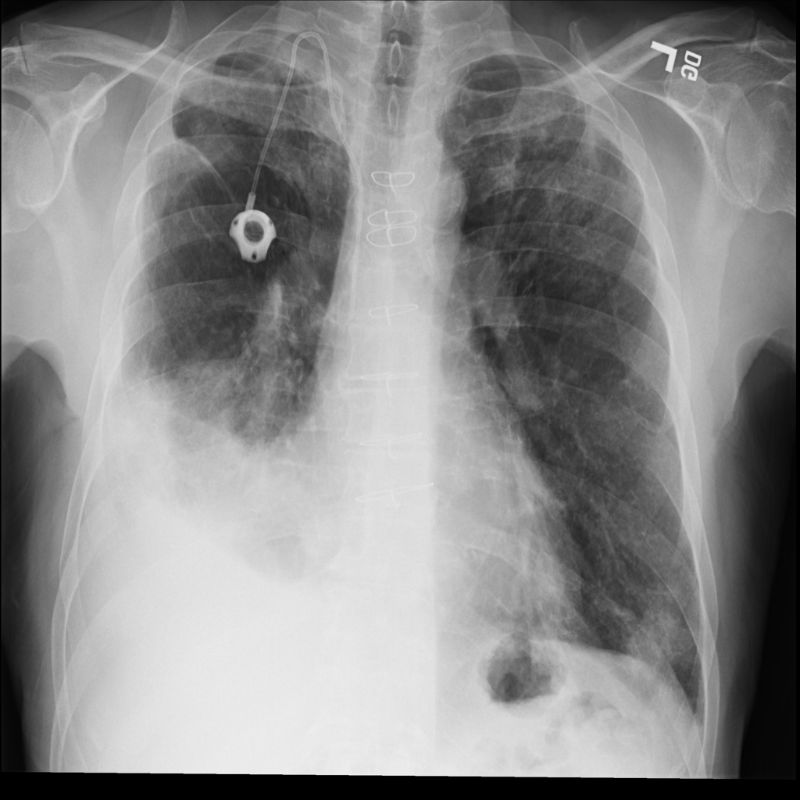PLEURAL EFFUSION: (69, 358, 215, 607)
